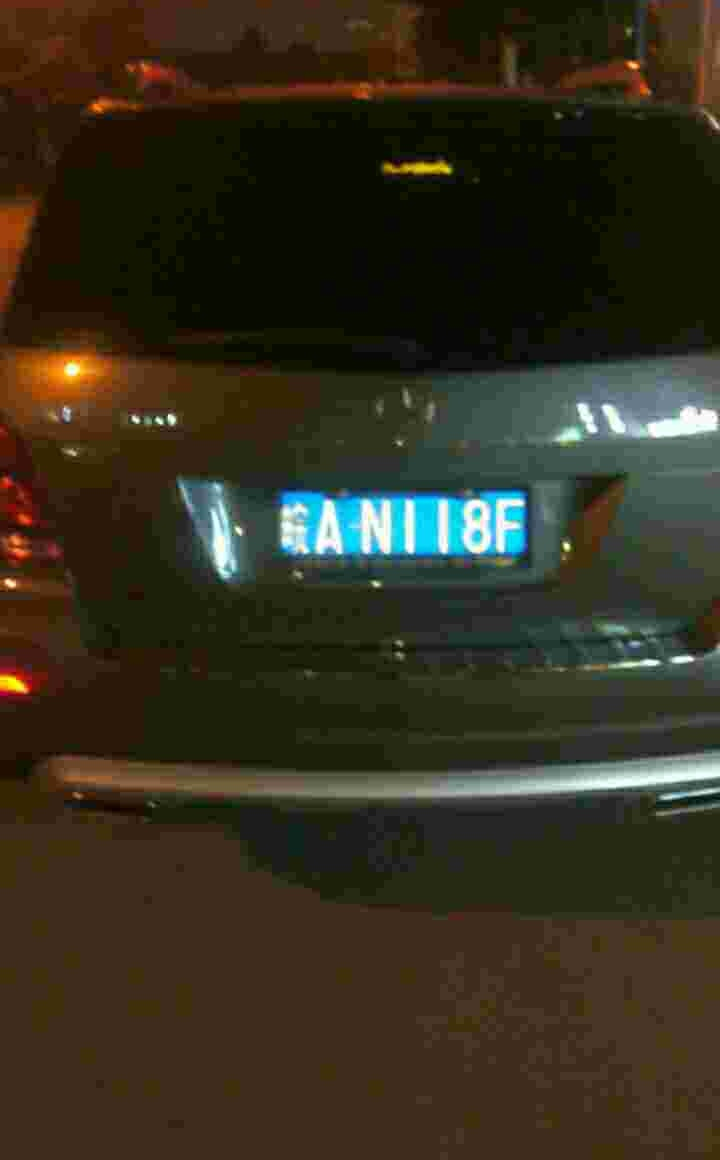plate: (275, 482, 539, 571)
